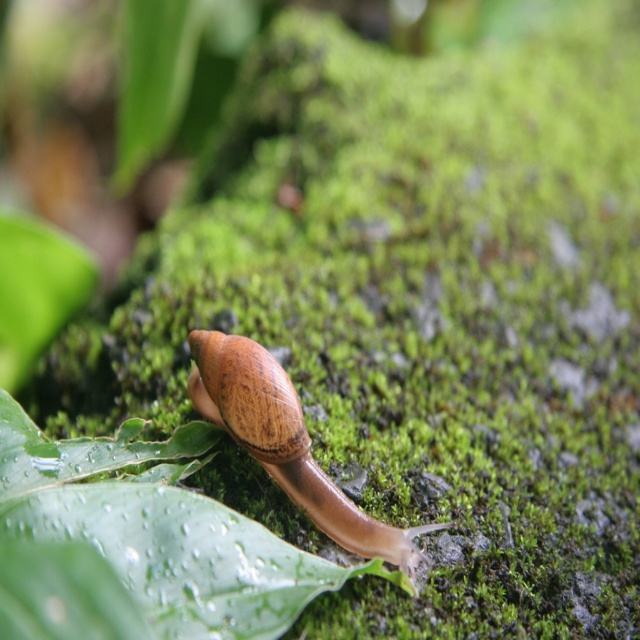Snail: (187, 330, 458, 581)
